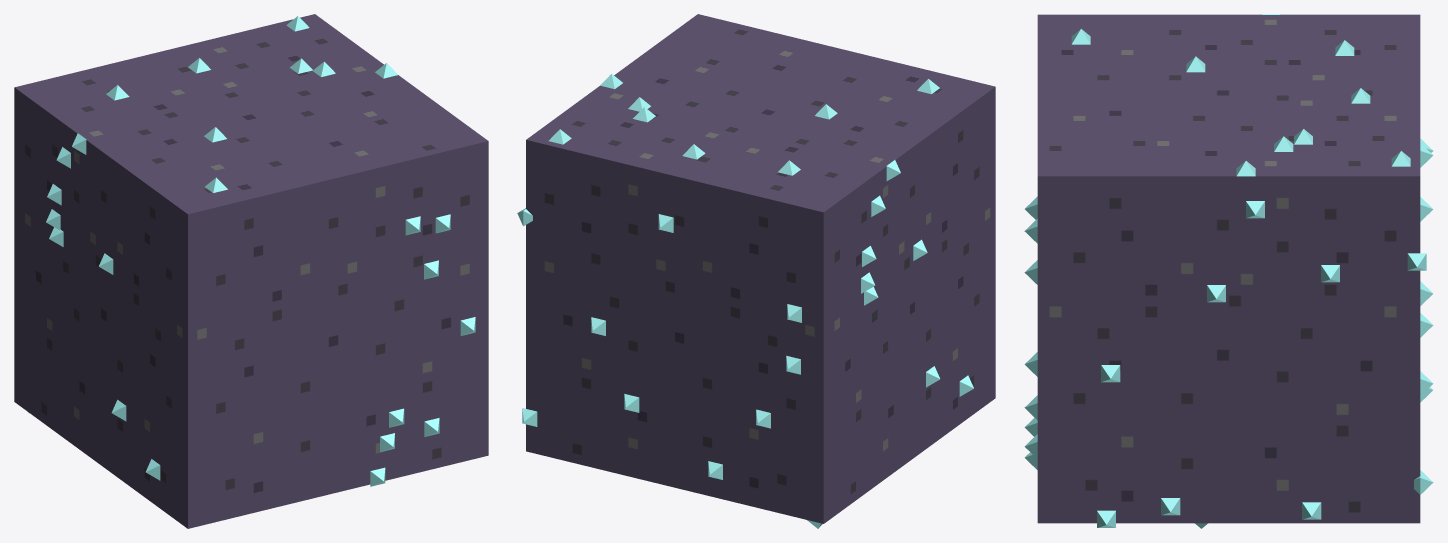
The model's file is ore2_3.fbx.
The picture shows the model from 3 angles, left to right: view 1: azimuth 30°, elevation 25°; view 2: azimuth 150°, elevation 25°; view 3: azimuth 270°, elevation 25°; orthographic projection. The views are drawn at different scales.
Visible parts, largest first — view 1: Diamond 2.001; view 2: Diamond 2.001; view 3: Diamond 2.001.
Boxes of the visible parts, box(x1,y1,x2,y2) form: Diamond 2.001: box(14, 14, 488, 528); Diamond 2.001: box(517, 14, 995, 528); Diamond 2.001: box(1024, 14, 1433, 528).
Size of the model in its own units: 214 by 214 by 214.
